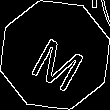M_NE: (22, 22, 88, 88)
